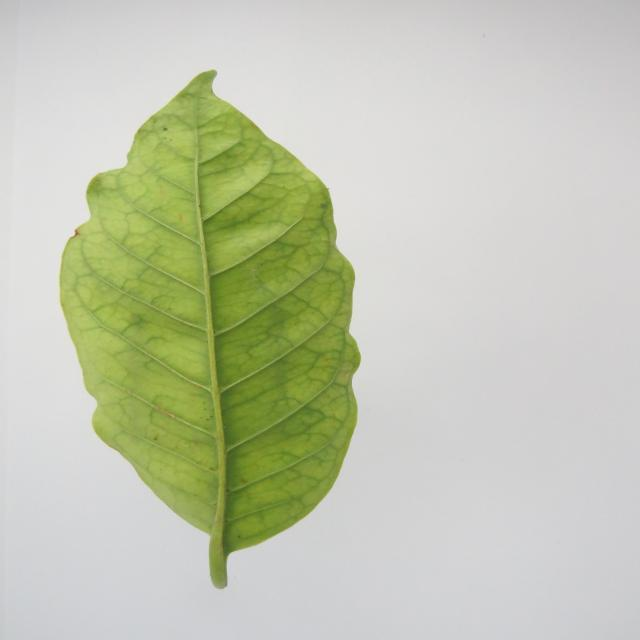DeficienciaNutricional-Calcio: (60, 71, 360, 589)
